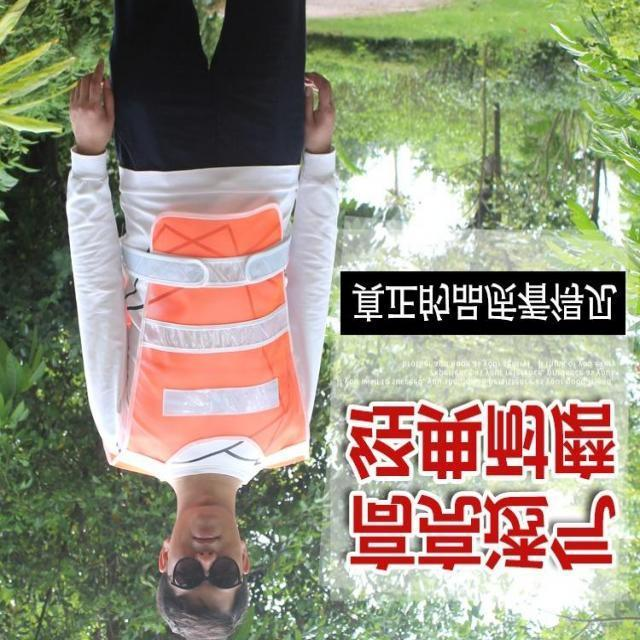goggles: (168, 558, 248, 588)
